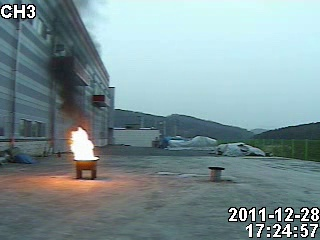fire: (68, 126, 97, 161)
